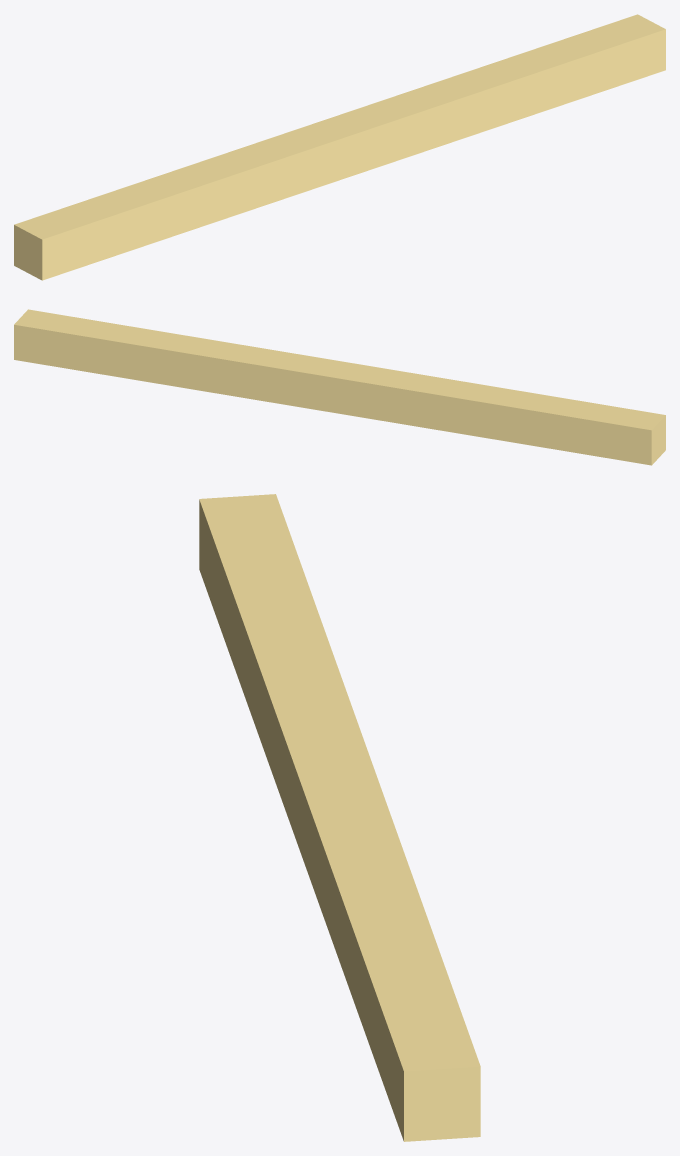
Rendered from SM_Garita_v4_LOD1.fbx.
3 views of the same model, one above another, from view 1: azimuth 30°, elevation 25°; view 2: azimuth 150°, elevation 25°; view 3: azimuth 270°, elevation 25° (orthographic). The views are drawn at different scales.
Parts seen in each view (by area): view 1: Barrera; view 2: Barrera; view 3: Barrera.
Boxes of the visible parts, bbox=[...] form: Barrera: bbox=[14, 14, 665, 280]; Barrera: bbox=[14, 309, 665, 465]; Barrera: bbox=[199, 494, 480, 1141].
Size of what is drawn, in the model's own units: 5.98 by 0.34 by 1.23.
